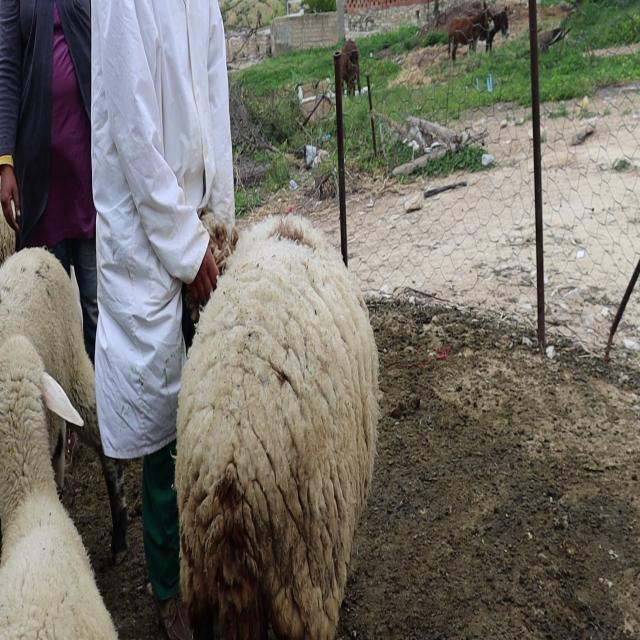Score_5: (175, 211, 379, 639)
